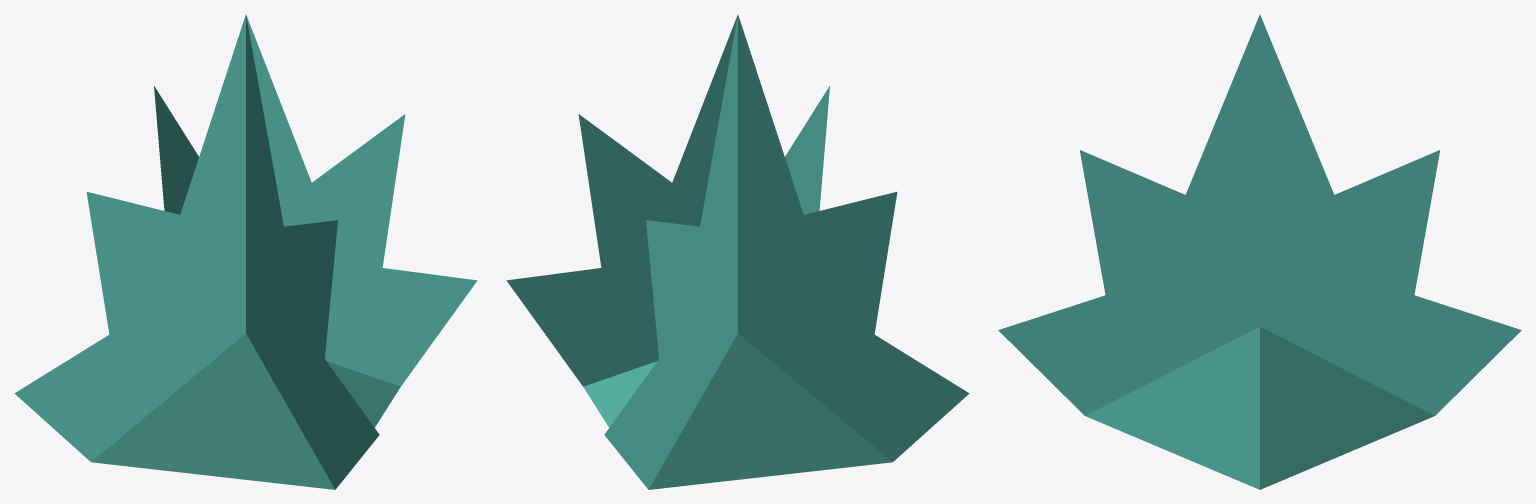
The model's file is plant_flatLarge.obj.
3 views of the same model, side by side, from view 1: azimuth 30°, elevation 25°; view 2: azimuth 150°, elevation 25°; view 3: azimuth 270°, elevation 25° (orthographic). The views are drawn at different scales.
Visible parts, largest first — view 1: plant_flatLarge; view 2: plant_flatLarge; view 3: plant_flatLarge.
Boxes of the visible parts, x1,y1,x2,y2 form: plant_flatLarge: [14, 14, 477, 489]; plant_flatLarge: [506, 14, 969, 489]; plant_flatLarge: [998, 14, 1521, 489].
Size of the model in its own units: 2.78 by 2.35 by 2.78.
